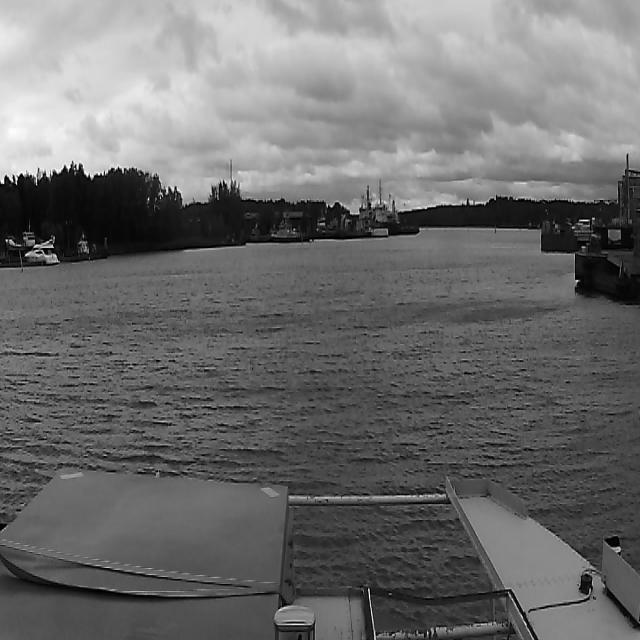buoy: (18, 248, 24, 274)
ship: (357, 183, 415, 234), (24, 234, 60, 266)
